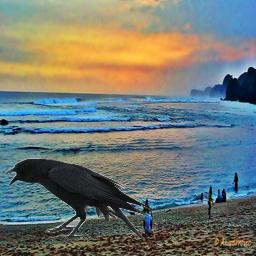Crow: (4, 158, 153, 240)
